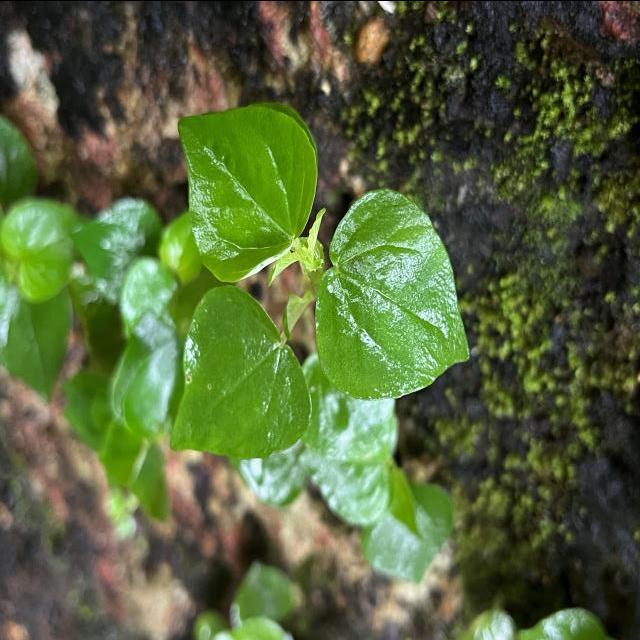Peperomia pellucida: (311, 184, 473, 403), (174, 100, 322, 286), (168, 279, 316, 462)
